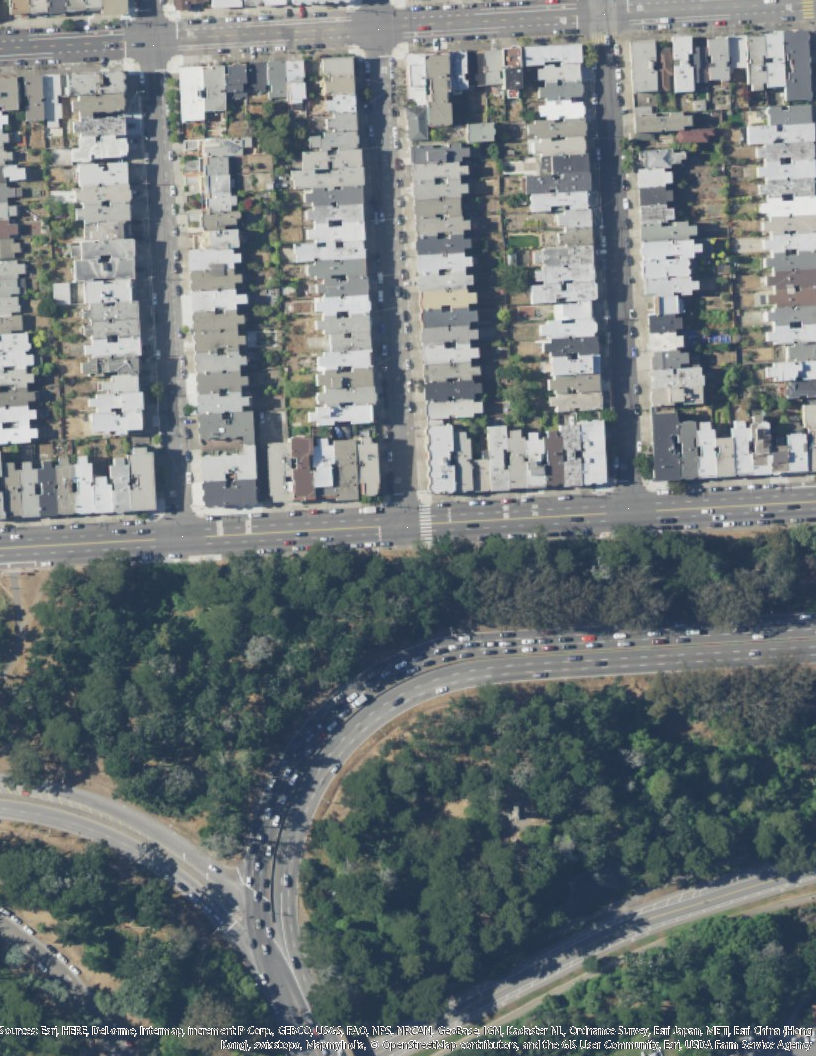zebracross: (418, 505, 435, 544)
